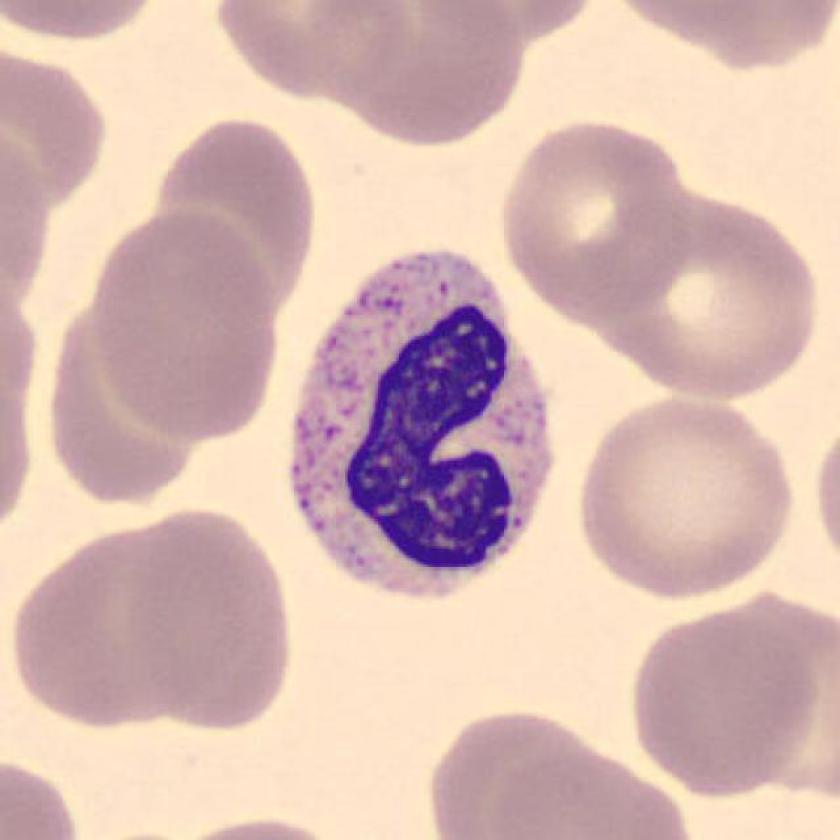neutrophil: (289, 253, 557, 598)
